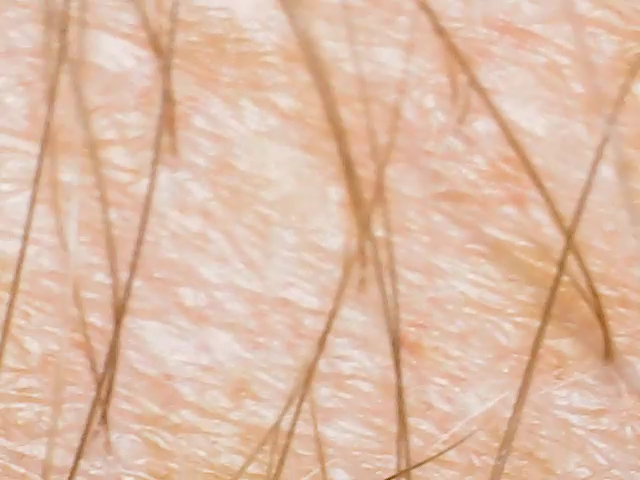folicle: (594, 340, 624, 372), (158, 138, 191, 160), (451, 112, 472, 141), (437, 89, 464, 111), (73, 424, 100, 446), (352, 279, 375, 301), (101, 441, 116, 462)
